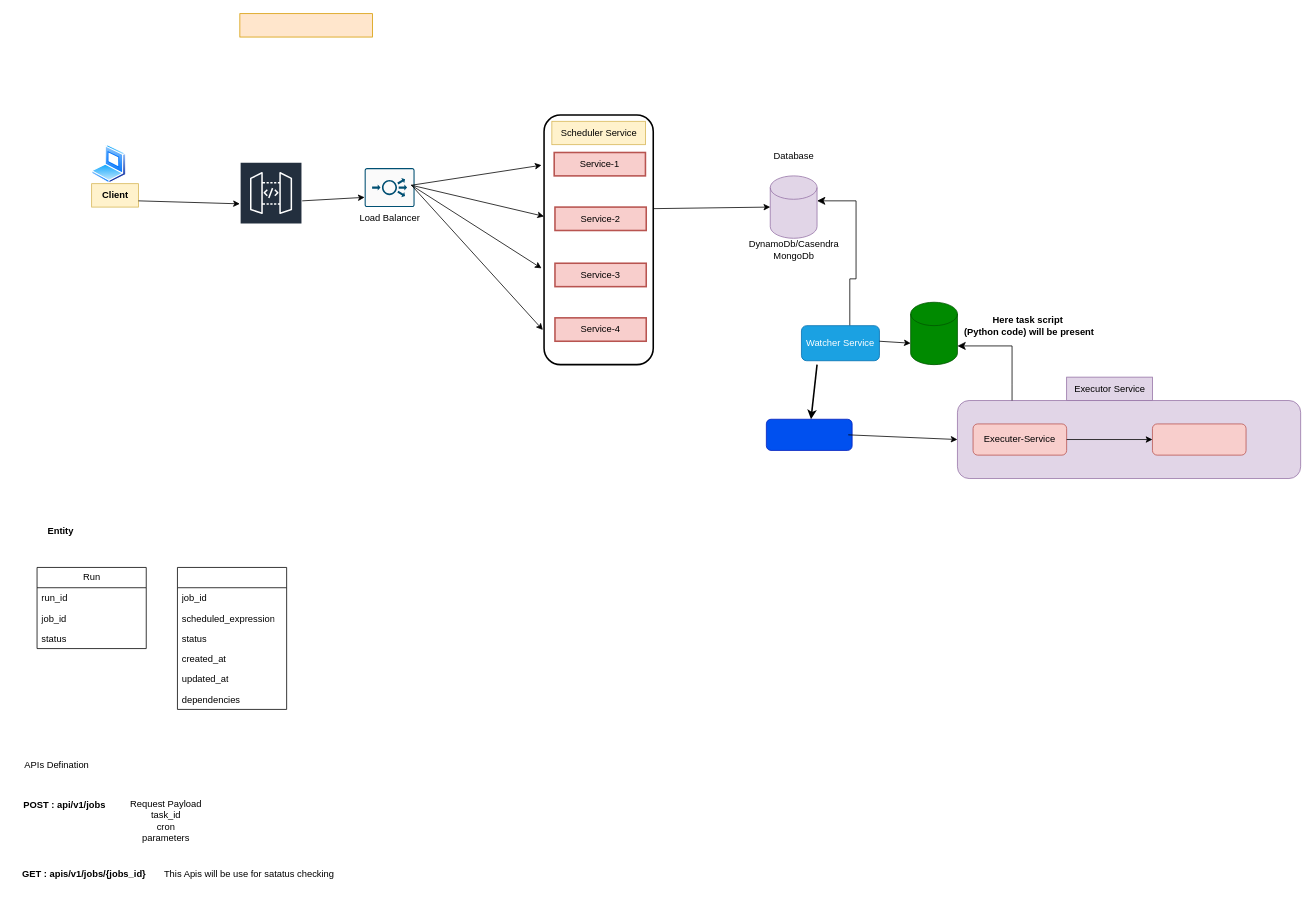
Some shapes in this 1314 by 899 pixel diagram are drawn without their labels. The box of each missing label's shape, as (x1, y1, x2, y2) in pixels:
API Gateway: (239, 161, 302, 248)
Distributed Task Scheduler: (239, 13, 372, 37)
Docker-Container/ Elastic Container: (1152, 423, 1246, 455)
Job_table: (177, 567, 287, 709)
RabitMQ/AWS-SQS: (766, 418, 852, 450)
S3 Storage: (910, 301, 957, 365)
